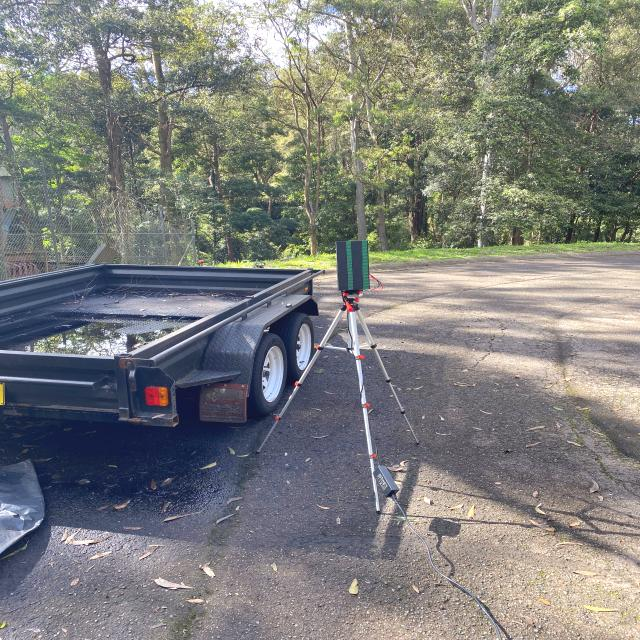matrix: (329, 233, 379, 300)
